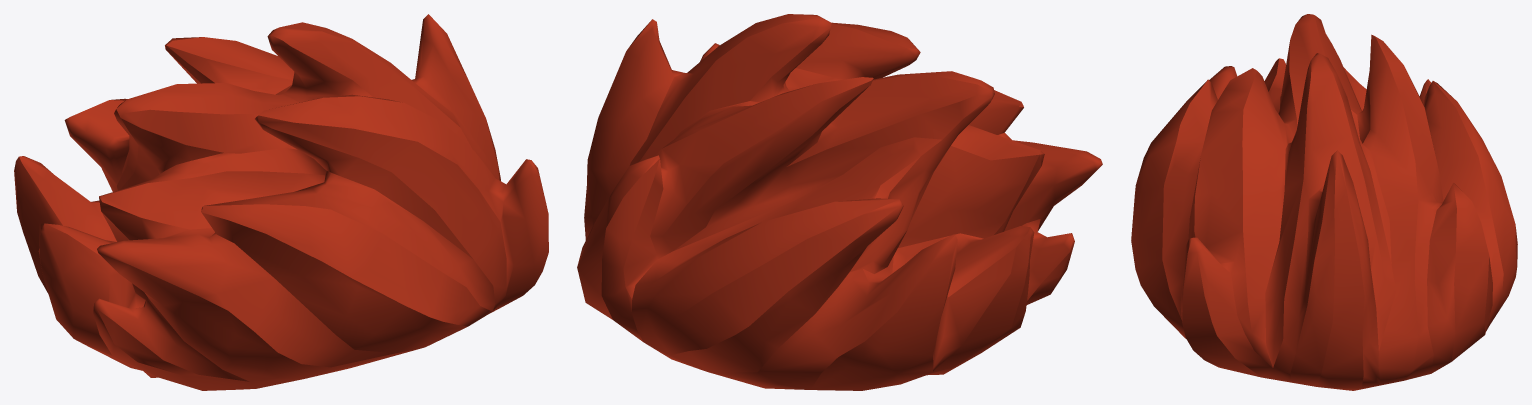
Rendered from SpikyHair.fbx.
3 renders of one model, left to right at view 1: azimuth 30°, elevation 25°; view 2: azimuth 150°, elevation 25°; view 3: azimuth 270°, elevation 25°, orthographic. The views are drawn at different scales.
Visible parts, largest first — view 1: spiky_hairstyle; view 2: spiky_hairstyle; view 3: spiky_hairstyle.
Boxes of the visible parts, box(x1,y1,x2,y2) form: spiky_hairstyle: box(14, 14, 548, 390); spiky_hairstyle: box(577, 14, 1102, 390); spiky_hairstyle: box(1131, 14, 1517, 390).
Size of the model in its own units: 0.5595 by 0.3689 by 0.4745.
